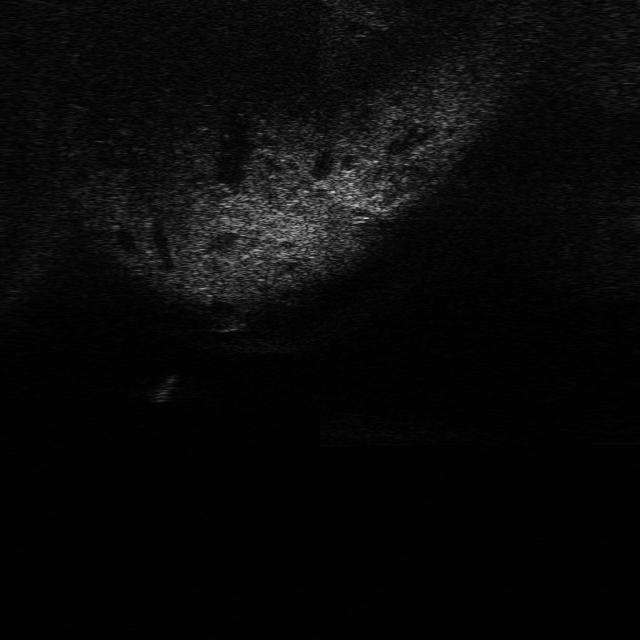cube: (206, 308, 248, 333)
cylinder: (146, 372, 180, 406)
